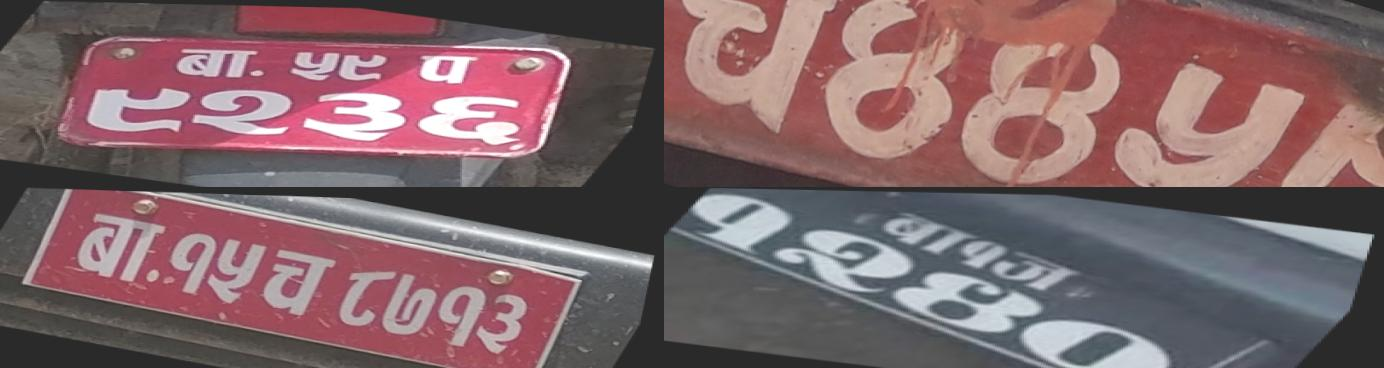0: (998, 310, 1207, 368)
1: (664, 190, 816, 253), (148, 222, 240, 299), (420, 276, 507, 350), (946, 236, 1015, 267)
2: (759, 225, 939, 291), (175, 82, 325, 140)
3: (286, 83, 437, 146), (467, 285, 552, 357)
4: (876, 266, 1058, 332)
5: (951, 1, 1140, 187), (802, 0, 995, 171), (194, 231, 286, 309), (266, 42, 356, 84)
6: (1096, 30, 1315, 187), (400, 84, 563, 150)
7: (371, 266, 460, 339)
8: (319, 256, 411, 330)
9: (664, 0, 848, 129), (61, 76, 220, 139), (327, 46, 407, 84)
ba: (52, 205, 185, 289), (156, 37, 279, 84), (862, 212, 984, 254)
cha: (242, 242, 350, 321)
ja: (984, 248, 1094, 290)
lu: (1263, 65, 1384, 187)
pa: (396, 46, 493, 88)
